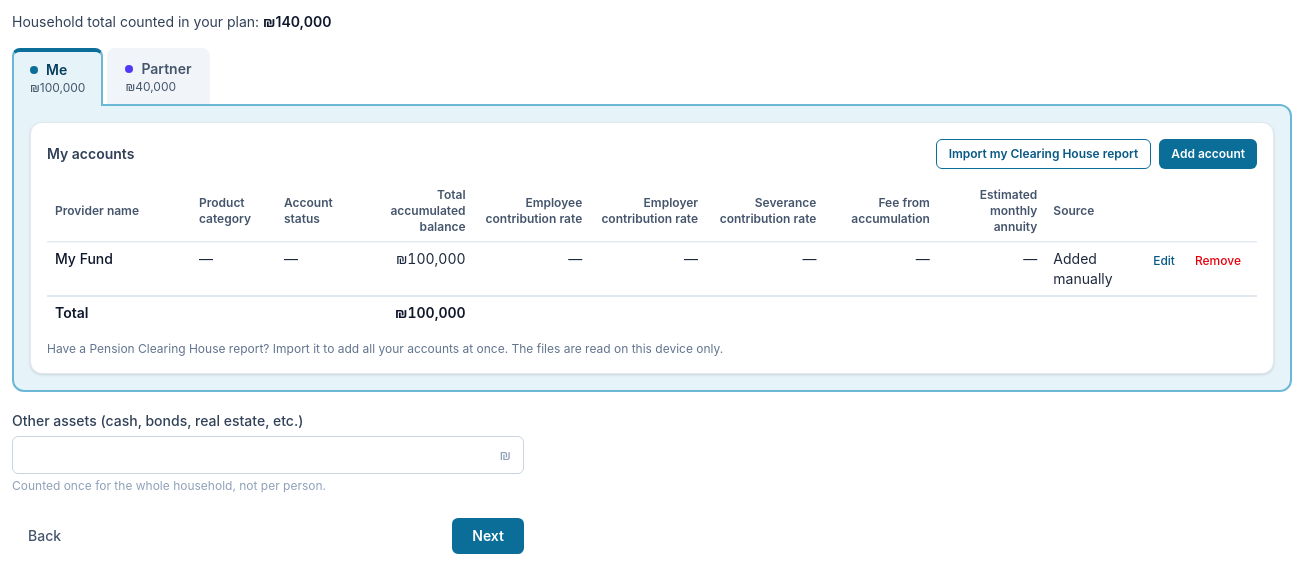
Test: PensionSavingsStep — account owner › shows each person's accounts on their own tab
Expected: the text "Partner Fund" is not shown
Expected: the heading "My accounts" is shown, 47,144 -> 134,164
Click the tab "Partner ₪40,000".
click(158, 76)  # box 107,48 -> 210,104
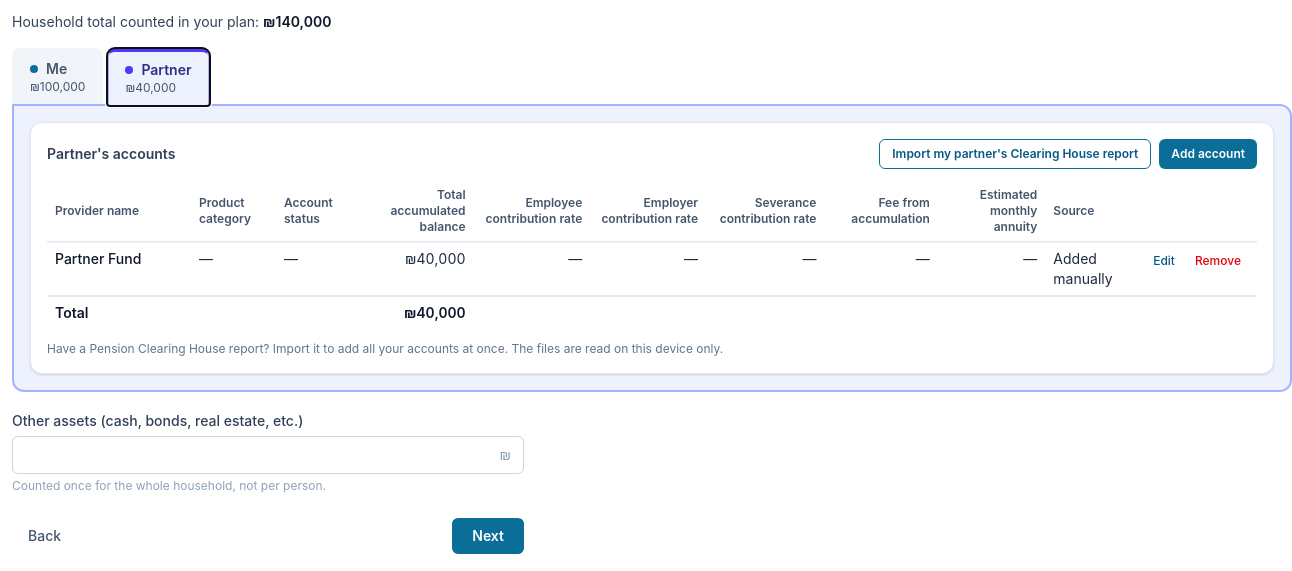
Now the text "My Fund" is gone
Now the heading "Partner's accounts" is shown, box 47,144 -> 175,164
